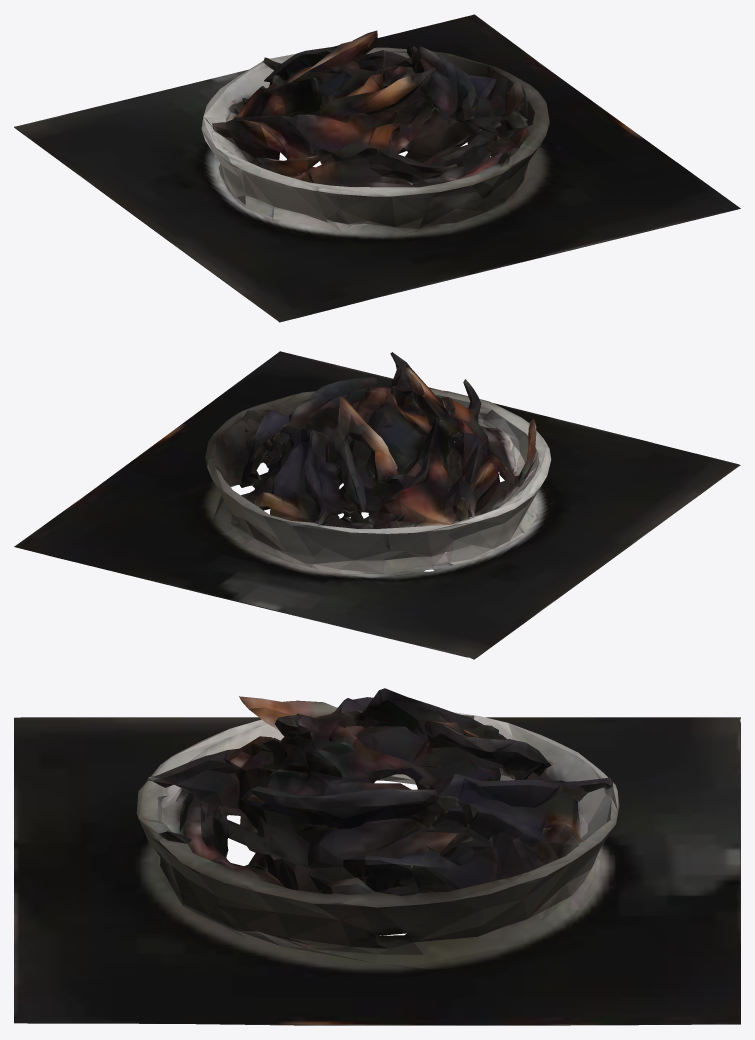
The model's file is tea-leaves.glb.
3 renders of one model, top to bottom at view 1: azimuth 30°, elevation 25°; view 2: azimuth 150°, elevation 25°; view 3: azimuth 270°, elevation 25°, orthographic. The views are drawn at different scales.
Visible parts, largest first — view 1: geometry_0; view 2: geometry_0; view 3: geometry_0.
Boxes of the visible parts, x1,y1,x2,y2 form: geometry_0: (14,14,740,322); geometry_0: (14,351,740,659); geometry_0: (14,688,740,1025).
Bounding box in the file's own units: 1 × 0.2601 × 1.
Materials: 1 (1 with a texture image).
